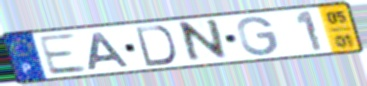1: (294, 9, 326, 54)
A: (86, 30, 133, 71)
D: (133, 24, 178, 69)
E: (35, 32, 90, 77)
G: (235, 15, 281, 58)
N: (179, 17, 231, 66)
